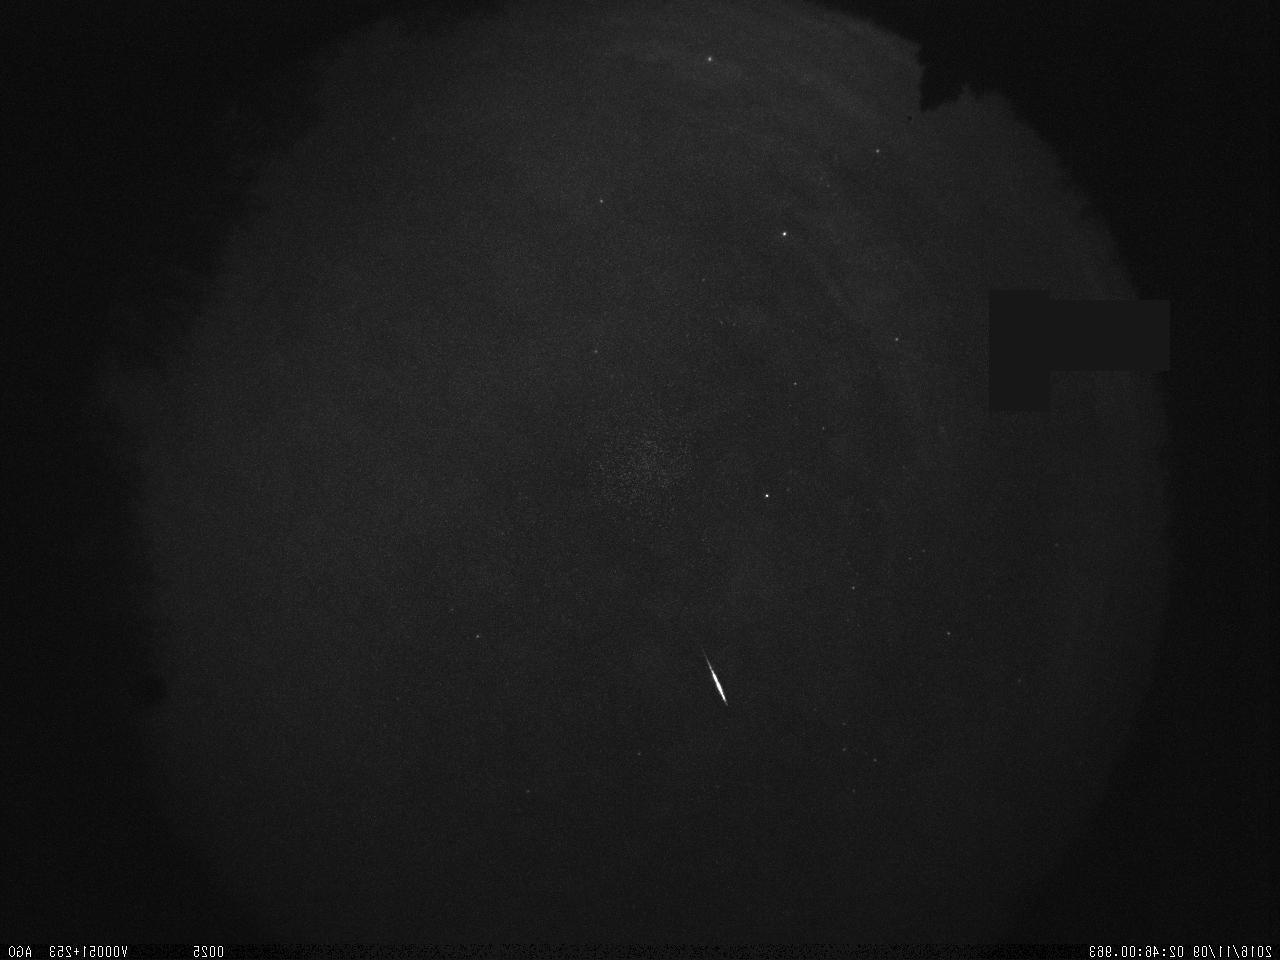meteor: (690, 636, 746, 714)
